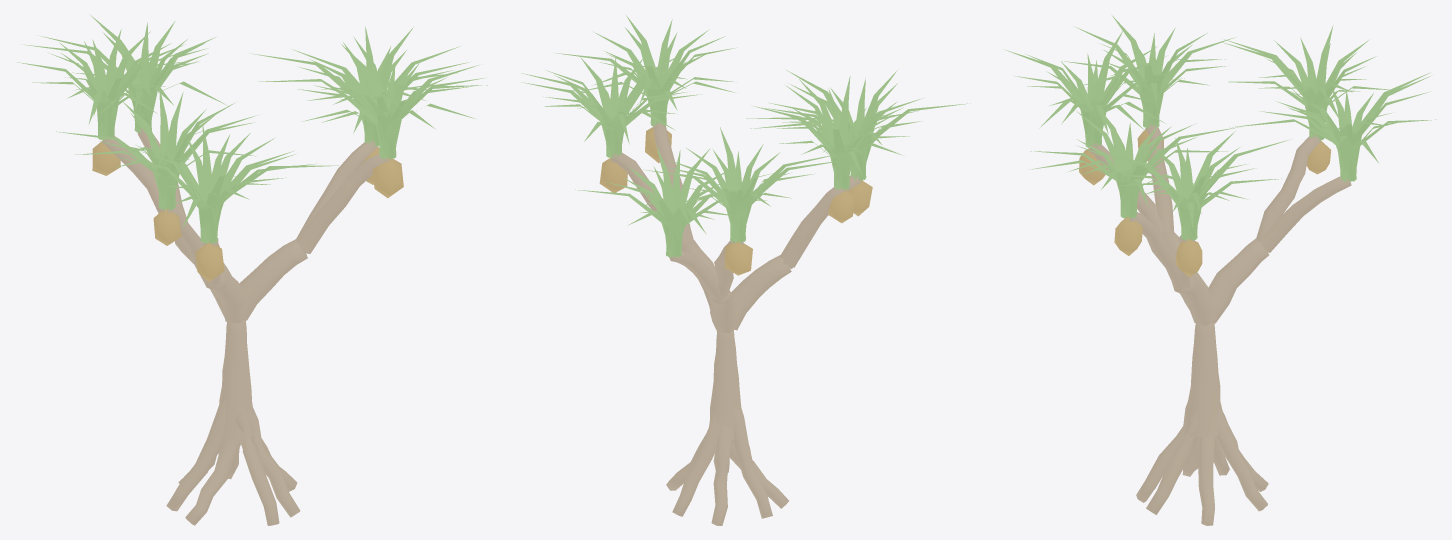
Rendered from Blender_Hala_2.glb.
The picture shows the model from 3 angles, left to right: view 1: azimuth 30°, elevation 25°; view 2: azimuth 150°, elevation 25°; view 3: azimuth 270°, elevation 25°; orthographic projection. The views are drawn at different scales.
Visible parts, largest first — view 1: Blender_Hala_2; view 2: Blender_Hala_2; view 3: Blender_Hala_2.
Boxes of the visible parts, <box> form: Blender_Hala_2: <box>16,14,487,525</box>; Blender_Hala_2: <box>520,15,970,525</box>; Blender_Hala_2: <box>1004,15,1436,525</box>.
Bounding box in the file's own units: 5.98 × 6.17 × 5.74.
